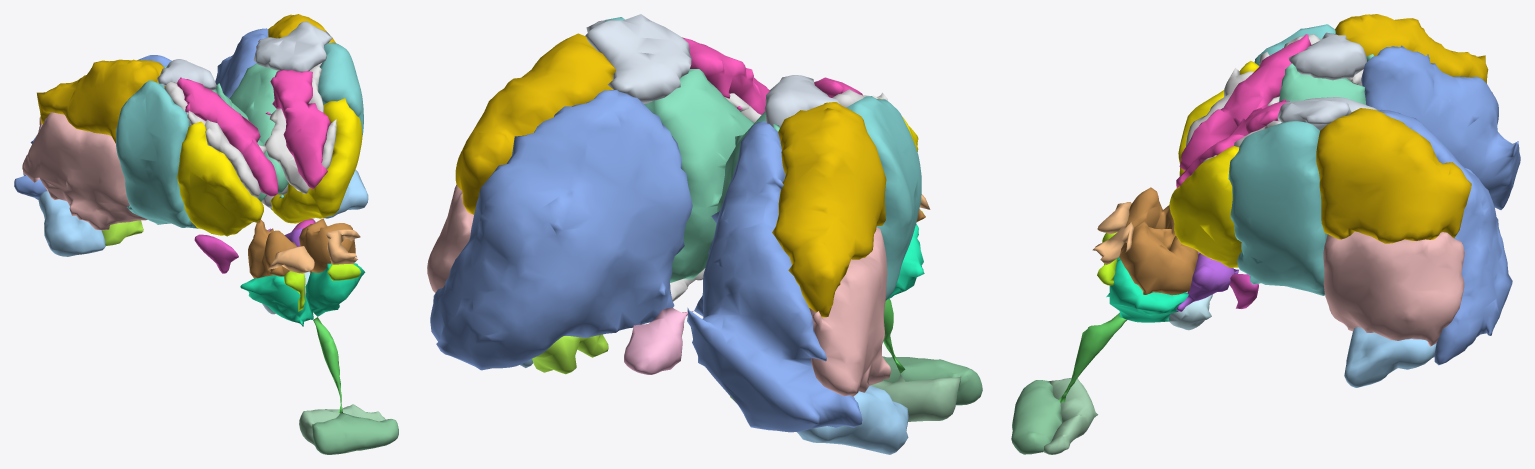
Rendered from diencephalon.lod0.glb.
The picture shows the model from 3 angles, left to right: view 1: azimuth 30°, elevation 25°; view 2: azimuth 150°, elevation 25°; view 3: azimuth 270°, elevation 25°; orthographic projection. The views are drawn at different scales.
Parts seen in each view (by area): view 1: ventral-lateral-thalamic-nucleus-r, ventral-posterolateral-thalamic-nucleus-r, ventral-anterior-thalamic-nucleus-r, lateral-posterior-thalamic-nucleus-r, ventral-anterior-thalamic-nucleus-l, anterior-thalamic-nucleus-l, anterior-thalamic-nucleus-r, adenohypophysis, lateral-dorsal-thalamic-nucleus-l, lateral-geniculate-body-r, dorsomedial-thalamic-nucleus-l, internal-medullary-lamina-l (+19 smaller); view 2: pulvinar-l, pulvinar-r, lateral-posterior-thalamic-nucleus-r, lateral-posterior-thalamic-nucleus-l, dorsomedial-thalamic-nucleus-l, ventral-posterolateral-thalamic-nucleus-r, ventral-lateral-thalamic-nucleus-r, lateral-dorsal-thalamic-nucleus-l, lateral-geniculate-body-r, pineal-body, anterior-thalamic-nucleus-l, neurohypophysis (+7 smaller); view 3: lateral-posterior-thalamic-nucleus-l, ventral-lateral-thalamic-nucleus-l, ventral-posterolateral-thalamic-nucleus-l, pulvinar-r, pulvinar-l, ventral-anterior-thalamic-nucleus-l, anterior-thalamic-nucleus-r, lateral-posterior-thalamic-nucleus-r, superior-tuberal-hypothalamus-l, lateral-geniculate-body-l, adenohypophysis, lateral-dorsal-thalamic-nucleus-r (+15 smaller).
Part boxes in pixels (x1,y1,x2,y2): ventral-lateral-thalamic-nucleus-r: (116,80,198,228); ventral-posterolateral-thalamic-nucleus-r: (22,112,147,230); ventral-anterior-thalamic-nucleus-r: (177,121,263,236); lateral-posterior-thalamic-nucleus-r: (37,59,165,143); ventral-anterior-thalamic-nucleus-l: (270,98,362,223); anterior-thalamic-nucleus-l: (265,69,330,188); anterior-thalamic-nucleus-r: (177,77,278,196); adenohypophysis: (312,413,398,454); lateral-dorsal-thalamic-nucleus-l: (253,21,332,71); lateral-geniculate-body-r: (38,191,105,256); dorsomedial-thalamic-nucleus-l: (229,63,288,198); internal-medullary-lamina-l: (261,62,336,208); pulvinar-l: (430,90,692,370); pulvinar-r: (687,121,862,432); lateral-posterior-thalamic-nucleus-r: (772,102,886,317); lateral-posterior-thalamic-nucleus-l: (455,33,615,214); dorsomedial-thalamic-nucleus-l: (644,69,753,282); ventral-posterolateral-thalamic-nucleus-r: (809,227,890,396); ventral-lateral-thalamic-nucleus-r: (846,96,921,301); lateral-dorsal-thalamic-nucleus-l: (586,14,691,103); lateral-geniculate-body-r: (797,385,908,454); pineal-body: (624,307,693,374); anterior-thalamic-nucleus-l: (682,37,769,114); neurohypophysis: (870,374,961,421); lateral-posterior-thalamic-nucleus-l: (1316,108,1471,243); ventral-lateral-thalamic-nucleus-l: (1228,121,1327,295); ventral-posterolateral-thalamic-nucleus-l: (1323,231,1464,346); pulvinar-r: (1361,45,1520,209); pulvinar-l: (1378,109,1512,365); ventral-anterior-thalamic-nucleus-l: (1169,146,1241,267); anterior-thalamic-nucleus-r: (1179,34,1311,170); lateral-posterior-thalamic-nucleus-r: (1335,14,1488,83); superior-tuberal-hypothalamus-l: (1119,220,1198,295); lateral-geniculate-body-l: (1344,327,1436,387); adenohypophysis: (1011,380,1062,454); lateral-dorsal-thalamic-nucleus-r: (1288,32,1366,80).
Bounding box in the file's own units: 0.0479 × 0.0477 × 0.0573.
